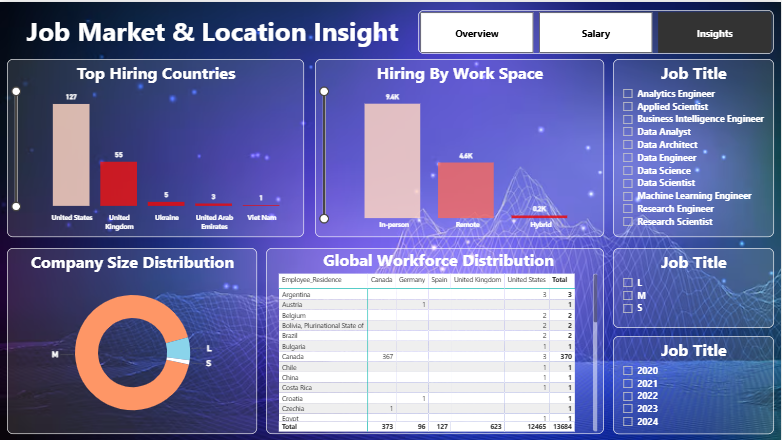

What the dashboard file says about the page in this screenshot:
{"tool":"powerbi","page":{"name":"Insights","canvas":[1280,720],"ordinal":2},"visuals":[{"type":"textbox","box":[11.8,13.4,673.6,72.2],"z":0},{"type":"pageNavigator","box":[685.4,13,583.2,72],"z":1},{"type":"slicer","title":"Job Title","fields":{"Values":["jobs_in_data_2024.Job_Title"]},"box":[1004.5,94.1,263.7,292.3],"z":2},{"type":"slicer","title":"Job Title","fields":{"Values":["jobs_in_data_2024.Company_Size"]},"box":[1004.5,403.1,263.7,131],"z":3},{"type":"slicer","title":"Job Title","fields":{"Values":["jobs_in_data_2024.Work_Year"]},"box":[1005.1,547.2,263.5,161.3],"z":4},{"type":"columnChart","title":"Top Hiring Countries","fields":{"Category":["jobs_in_data_2024.Company_Location"],"Y":["Count(jobs_in_data_2024.Job_Title)"]},"box":[11.5,93.4,486.9,291.8],"z":5},{"type":"donutChart","title":"Company Size Distribution","fields":{"Category":["jobs_in_data_2024.Company_Size"],"Y":["CountNonNull(jobs_in_data_2024.Job_Title)"]},"box":[11.5,403.3,409.8,304.9],"z":6},{"type":"pivotTable","title":"Global Workforce Distribution","fields":{"Rows":["jobs_in_data_2024.Employee_Residence"],"Columns":["jobs_in_data_2024.Company_Location"],"Values":["CountNonNull(jobs_in_data_2024.Job_Title)"]},"box":[436.1,403.3,554.1,304.9],"z":7},{"type":"columnChart","title":"Hiring By Work Space","fields":{"Category":["jobs_in_data_2024.Work_Setting"],"Y":["CountNonNull(jobs_in_data_2024.Job_Title)"]},"box":[516.4,93.4,473.8,291.8],"z":8}]}

Visuals, with their boxes in screenshot pixels (x1, y1, x2, y2), scaled from the page's 1280x720 canvas onto the 782x440 screenshot:
textbox: (x1=7, y1=8, x2=419, y2=52)
pageNavigator: (x1=419, y1=8, x2=775, y2=52)
"Job Title" slicer: (x1=614, y1=58, x2=775, y2=236)
"Job Title" slicer: (x1=614, y1=246, x2=775, y2=326)
"Job Title" slicer: (x1=614, y1=334, x2=775, y2=433)
"Top Hiring Countries" columnChart: (x1=7, y1=57, x2=304, y2=235)
"Company Size Distribution" donutChart: (x1=7, y1=246, x2=257, y2=433)
"Global Workforce Distribution" pivotTable: (x1=266, y1=246, x2=605, y2=433)
"Hiring By Work Space" columnChart: (x1=315, y1=57, x2=605, y2=235)
